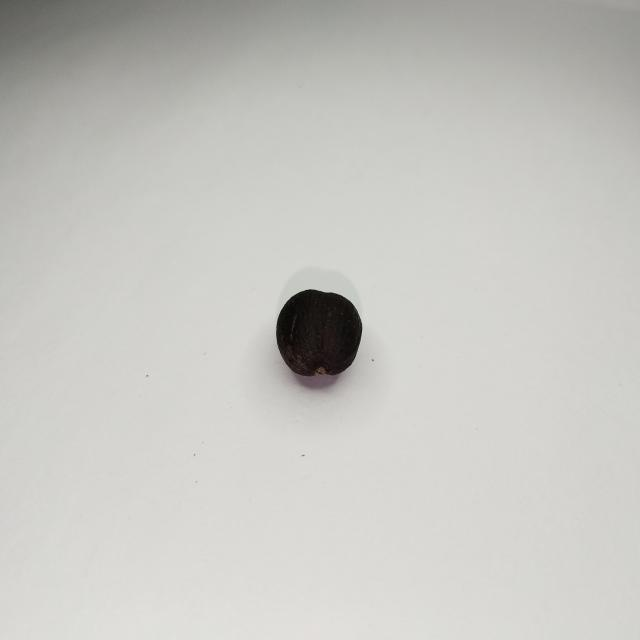Danado: (277, 290, 361, 375)
